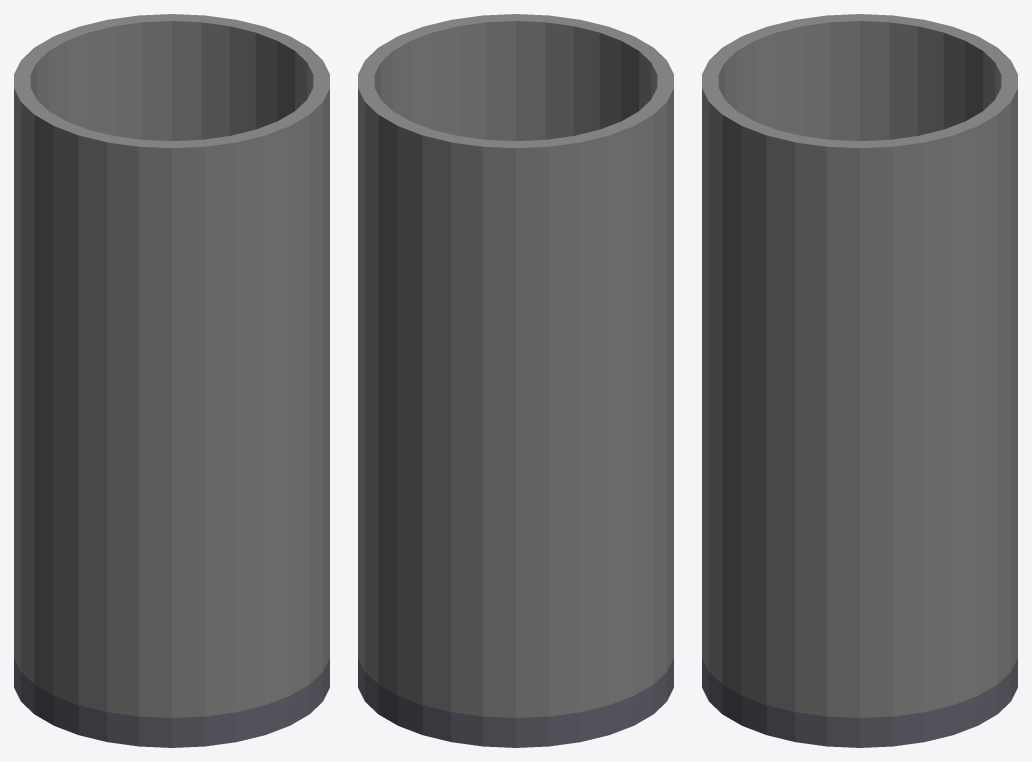
Rendered from Res01_Tumbler3.fbx.
3 views of the same model, side by side, from view 1: azimuth 30°, elevation 25°; view 2: azimuth 150°, elevation 25°; view 3: azimuth 270°, elevation 25° (orthographic).
Visible parts, largest first — view 1: Res01_Tumbler_3; view 2: Res01_Tumbler_3; view 3: Res01_Tumbler_3.
Part boxes in pixels (box(x1,y1,x2,y2)): Res01_Tumbler_3: box(14, 14, 329, 747); Res01_Tumbler_3: box(358, 14, 673, 747); Res01_Tumbler_3: box(702, 14, 1017, 747).
Bounding box in the file's own units: 30.53 × 63.59 × 30.36.
